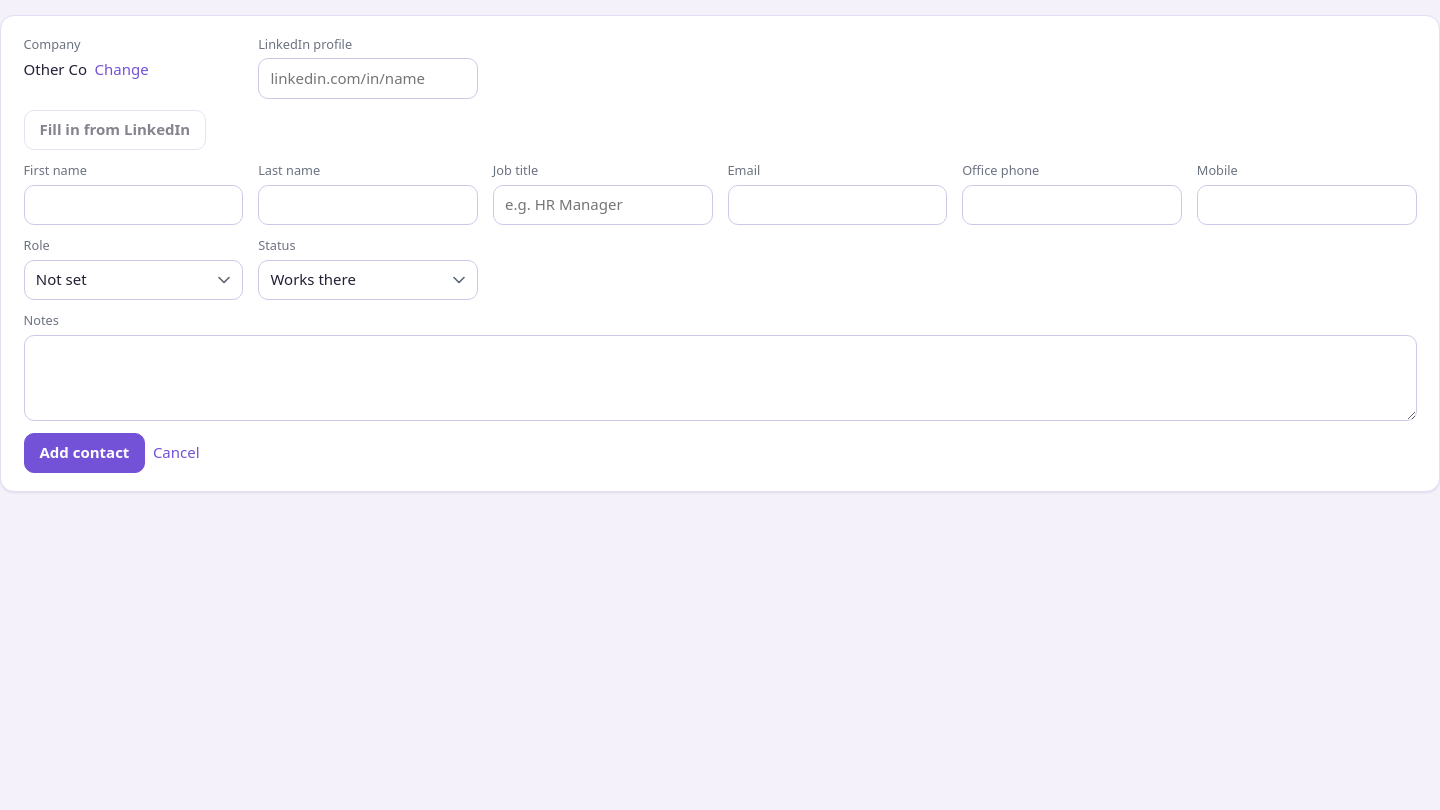
a new contact from LinkedIn › opened at a company: takes their role there, and says when LinkedIn has them elsewhere
Step 1. Type "linkedin.com/in/farah-aziz" into the field labelled "LinkedIn profile" → (368, 78), box [258, 58, 478, 99]
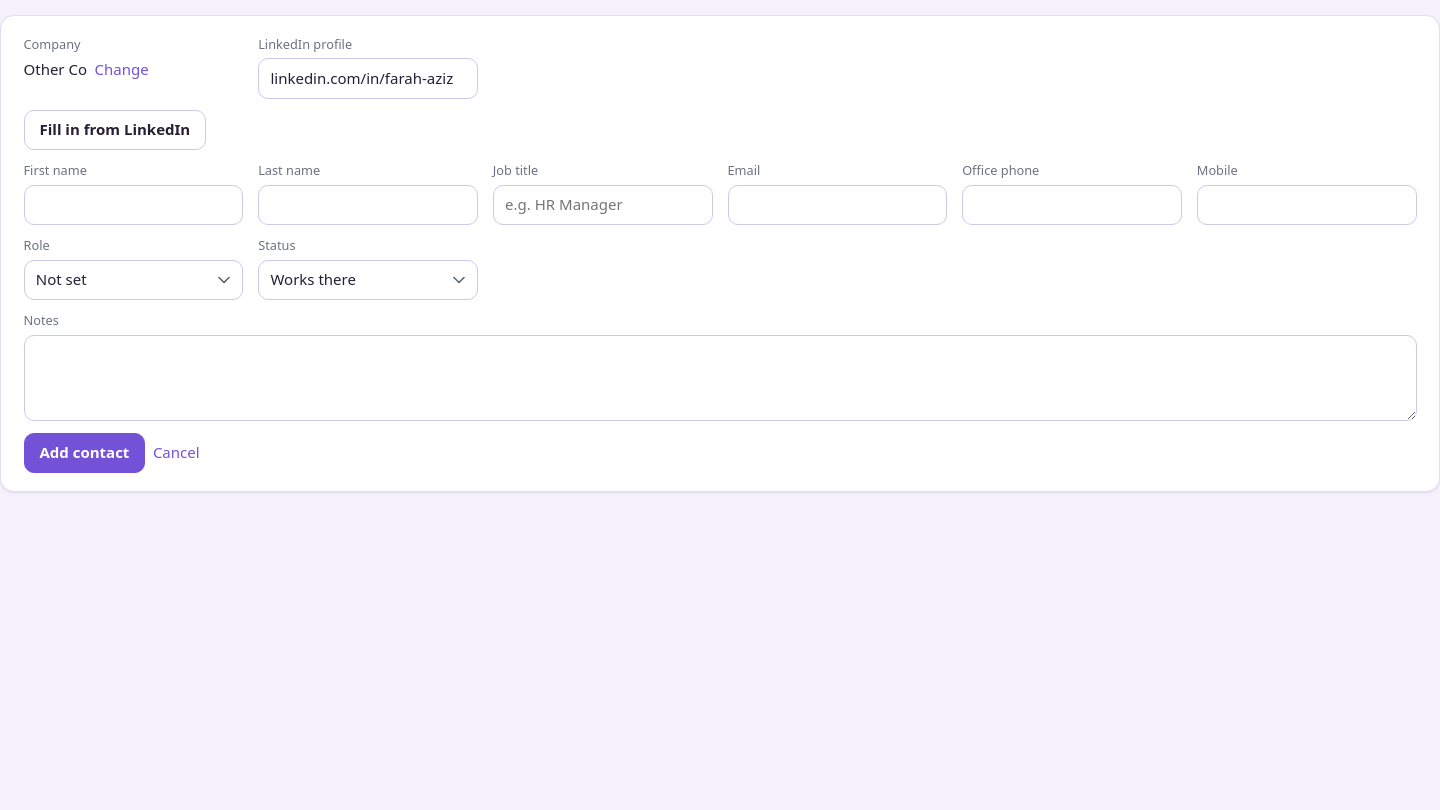
Step 2. Click the button "Fill in from LinkedIn" → (115, 130), box [24, 110, 206, 150]
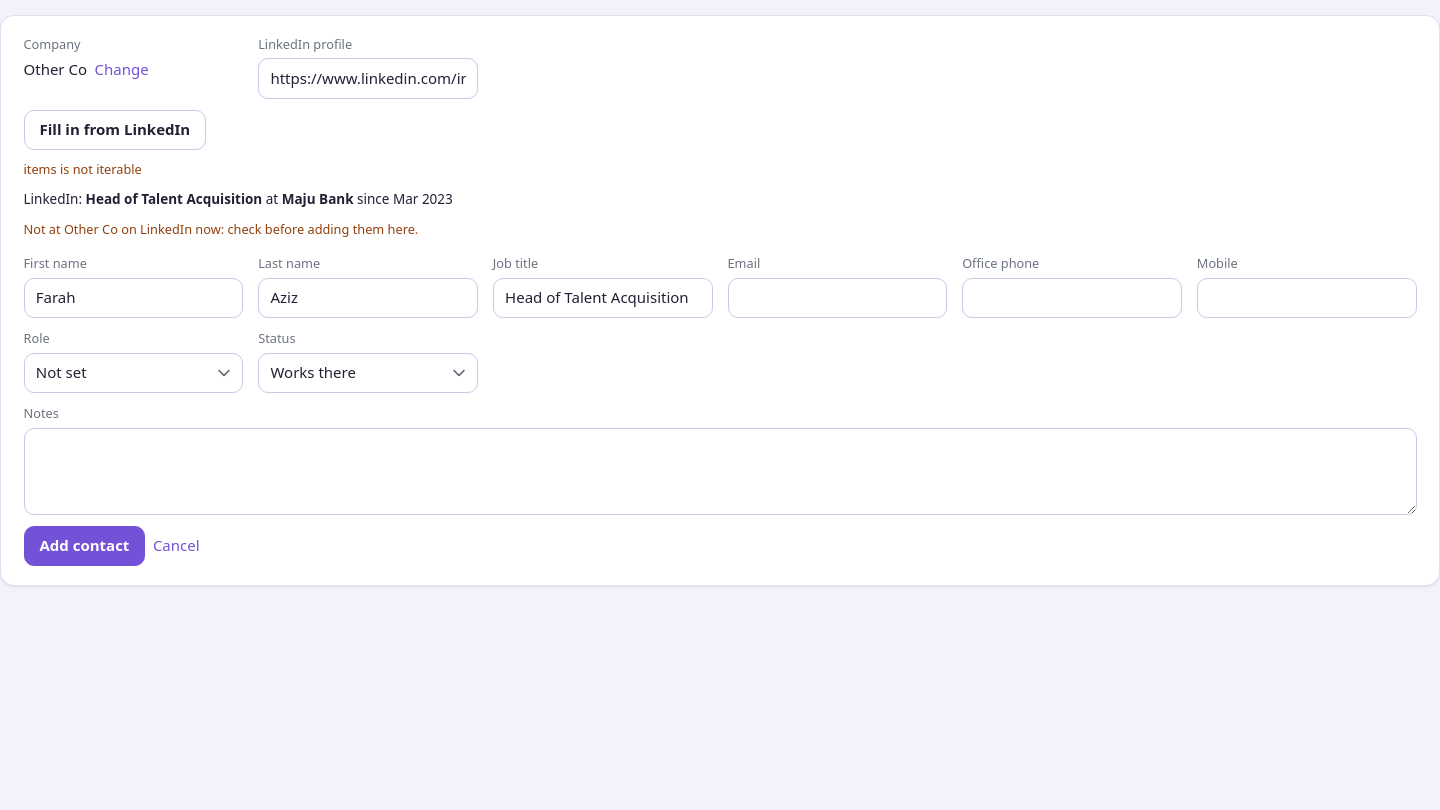
Now the text "Not at Other Co on LinkedIn now" is shown, box [24, 220, 453, 240]
